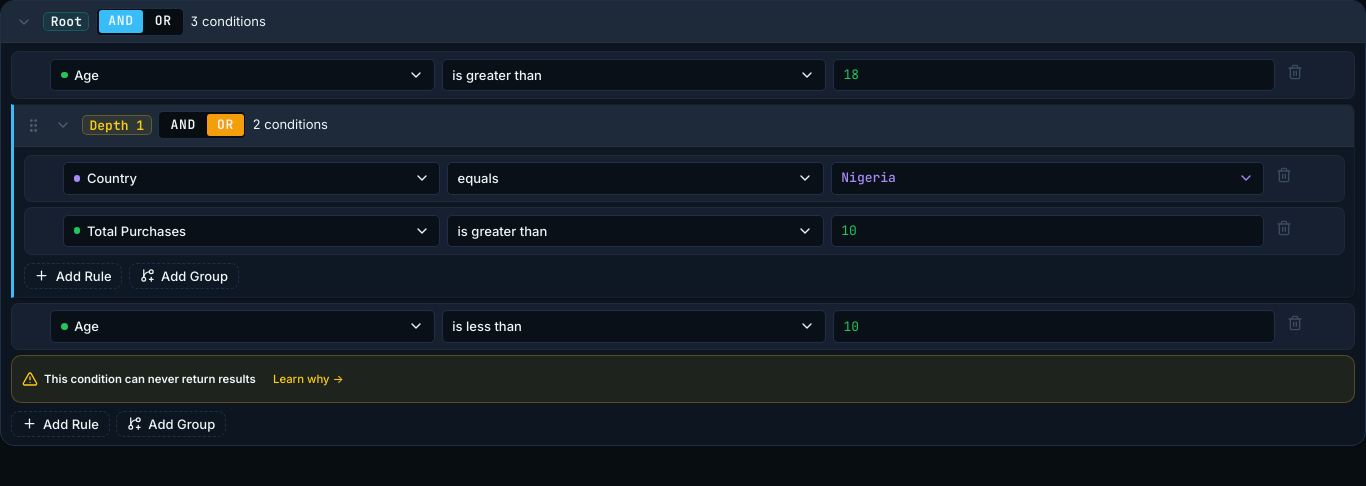
Test case: ConditionGroup Component › shows conflict warning with expandable Learn why control
The width and height of the screenshot is (1366, 486).
Step 1. Click the button "Learn why →" → (308, 379), box top-left (262, 366), bottom-right (354, 392)
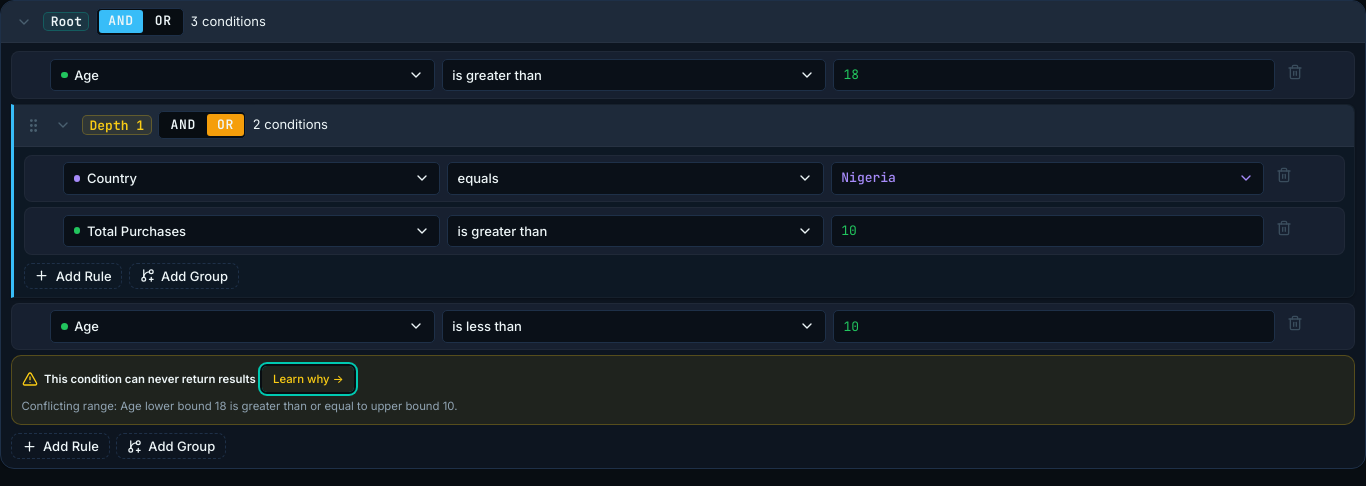
Result: the text "Conflicting range" is shown at top-left (22, 399), bottom-right (458, 413)
